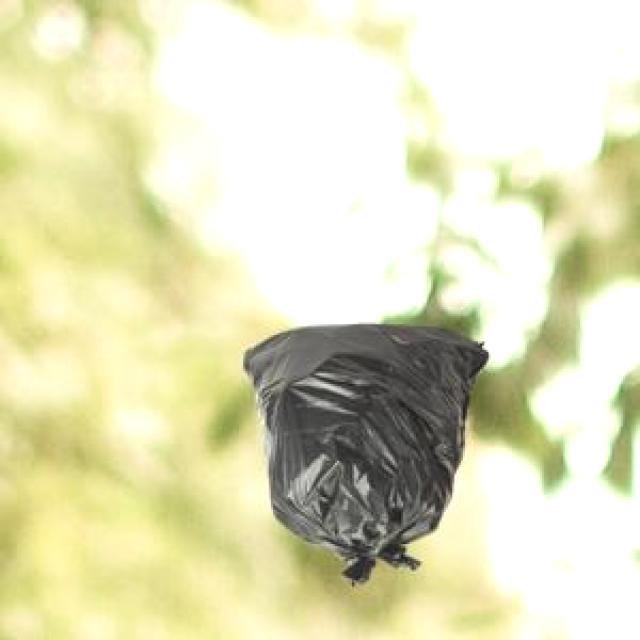Trashbag: (241, 309, 500, 597)
